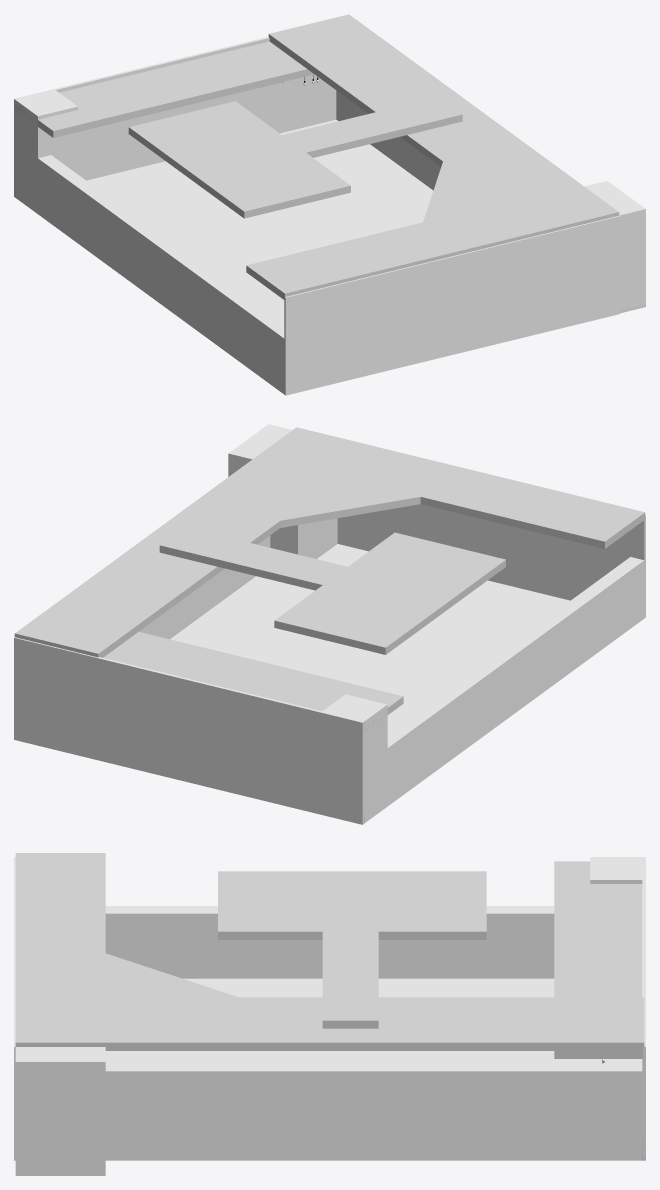
Rendered from shop.gltf.
3 views of the same model, one above another, from view 1: azimuth 30°, elevation 25°; view 2: azimuth 150°, elevation 25°; view 3: azimuth 270°, elevation 25° (orthographic). The views are drawn at different scales.
Visible parts, largest first — view 1: Cube.005, Cube.001, Cube, Cube.006, Cube.003, Cube.004, Cube.002; view 2: Cube.005, Cube.001, Cube, Cube.006, Cube.003, Cube.002, Cube.004; view 3: Cube.005, Cube.001, Cube, Cube.006, Cube.003, Cube.004, Cube.002.
Part boxes in pixels (x1,y1,x2,y2): Cube.005: (14, 36, 645, 395); Cube.001: (268, 14, 618, 234); Cube: (246, 184, 619, 299); Cube.006: (128, 101, 350, 218); Cube.003: (15, 41, 313, 137); Cube.004: (238, 97, 462, 161); Cube.002: (420, 159, 519, 234); Cube.005: (14, 424, 645, 824); Cube.001: (14, 427, 379, 657); Cube: (257, 427, 645, 548); Cube.006: (274, 532, 505, 654); Cube.003: (103, 632, 403, 731); Cube.002: (245, 462, 438, 527); Cube.004: (159, 527, 393, 595); Cube.005: (14, 857, 645, 1175); Cube.001: (15, 997, 644, 1050); Cube: (15, 853, 105, 1046); Cube.006: (218, 871, 486, 939); Cube.003: (554, 861, 643, 1058); Cube.004: (322, 906, 378, 1028); Cube.002: (34, 948, 238, 1028).
Size of the model in its own units: 54 by 15.5 by 70.4.
3 materials, 2 textured.
